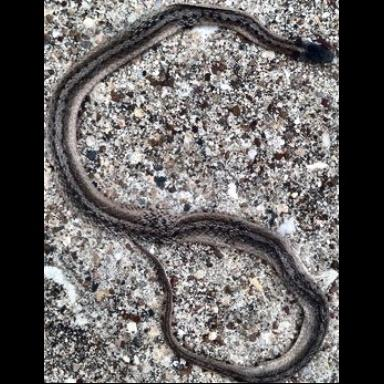snake: (38, 1, 344, 384)
